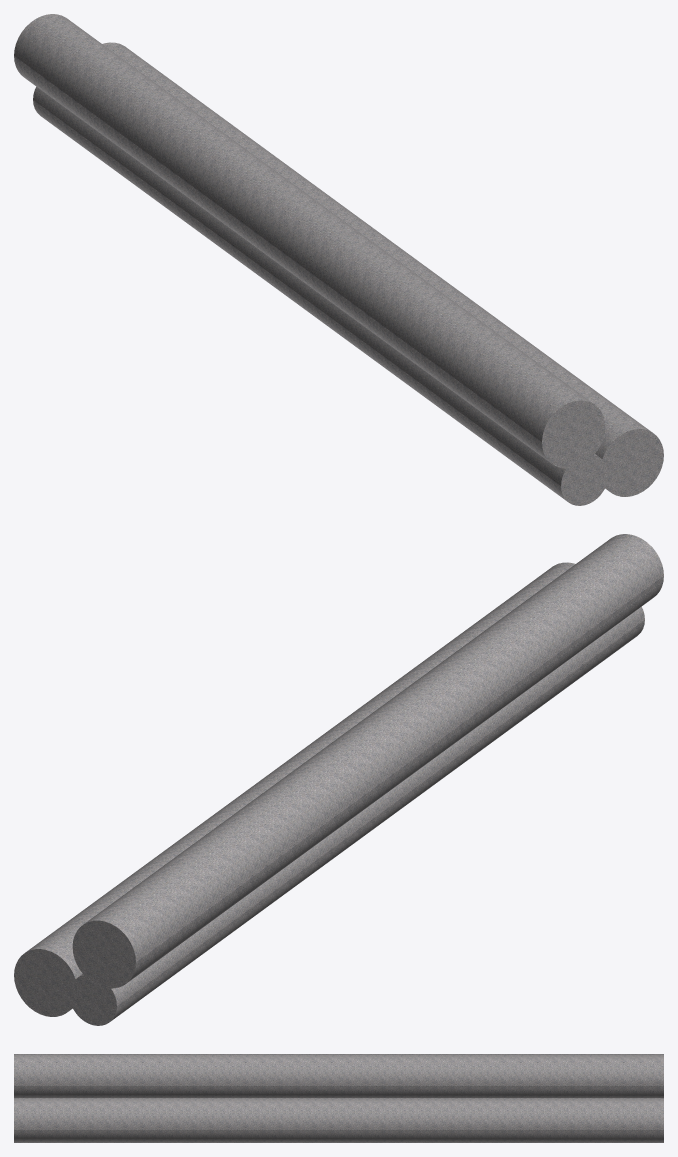
The picture shows the model from 3 angles, top to bottom: view 1: azimuth 30°, elevation 25°; view 2: azimuth 150°, elevation 25°; view 3: azimuth 270°, elevation 25°; orthographic projection. The views are drawn at different scales.
Parts seen in each view (by area): view 1: 0_2_0_3_0_2_0_2_0; view 2: 0_2_0_3_0_2_0_2_0; view 3: 0_2_0_3_0_2_0_2_0.
Boxes of the visible parts, x1,y1,x2,y2 form: 0_2_0_3_0_2_0_2_0: [14, 14, 663, 505]; 0_2_0_3_0_2_0_2_0: [14, 534, 663, 1025]; 0_2_0_3_0_2_0_2_0: [14, 1054, 663, 1142].
Size of the model in its own units: 1.54 by 1.31 by 11.53.
Materials: 3 (3 with a texture image).
